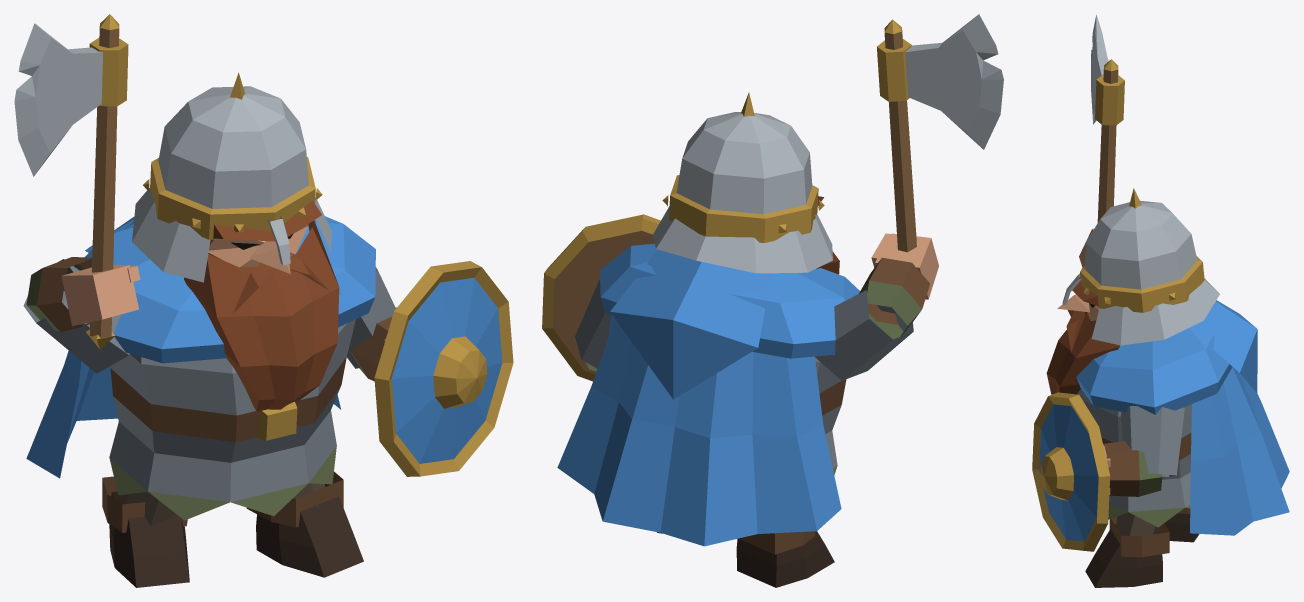
Rendered from gimli-3.glb.
3 views of the same model, side by side, from view 1: azimuth 30°, elevation 25°; view 2: azimuth 150°, elevation 25°; view 3: azimuth 270°, elevation 25° (orthographic). The views are drawn at different scales.
Parts seen in each view (by area): view 1: gimli-3; view 2: gimli-3; view 3: gimli-3.
Boxes of the visible parts, left/top/right/bottom form: gimli-3: left=14, top=14, right=513, bottom=587; gimli-3: left=542, top=14, right=1003, bottom=587; gimli-3: left=1032, top=14, right=1289, bottom=587.
Size of the model in its own units: 1.35 by 1.58 by 0.8102.
